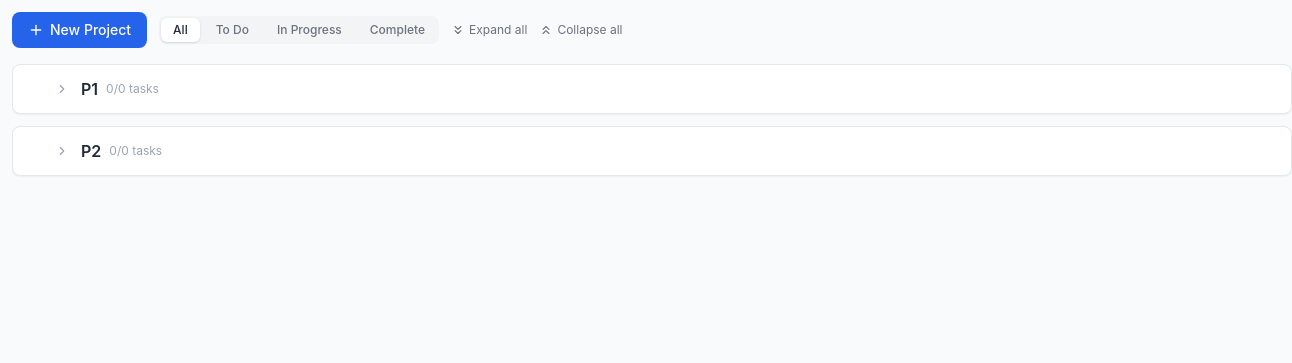
Scenario: TasksView › expand all / collapse all buttons work
This screenshot has width=1292, height=363.
Click the button "Expand all".
click(489, 30)  # box [451,22,527,38]
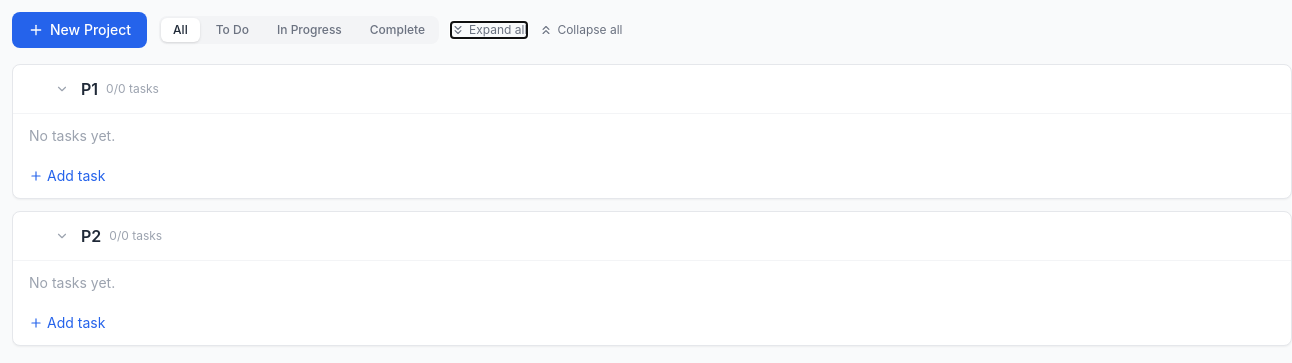
Expected: the number of buttons "Add task" is 2, [29,158,105,186]; [29,305,105,333]
Click the button "Collapse all".
click(581, 30)  # box [539,22,622,38]
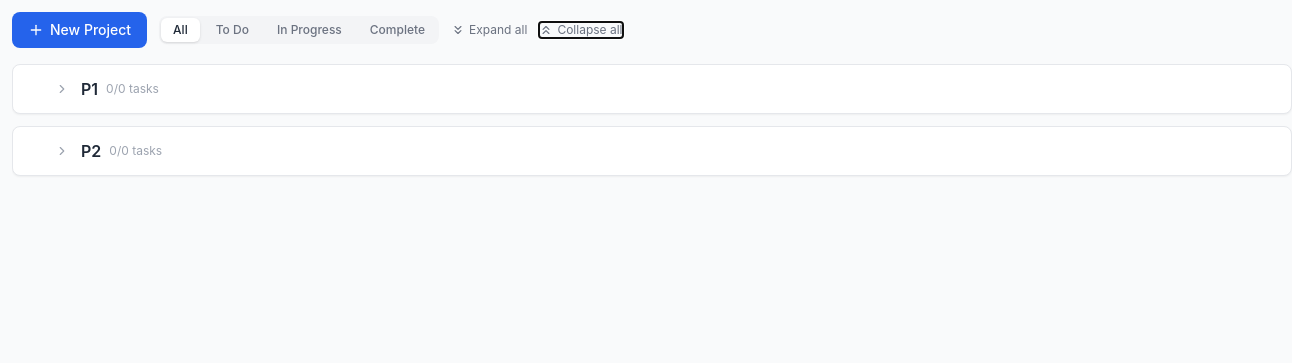
Expected: the button "Add task" is gone
